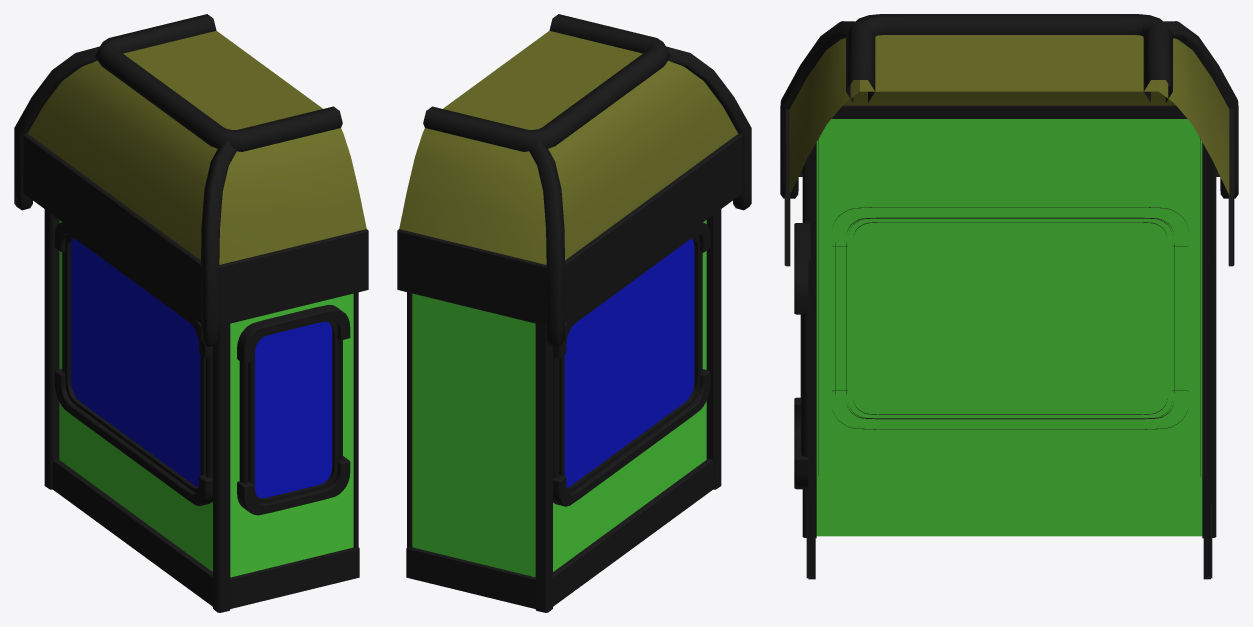
The model's file is Kiosque_Gauche_Metal_01.FBX.
3 views of the same model, side by side, from view 1: azimuth 30°, elevation 25°; view 2: azimuth 150°, elevation 25°; view 3: azimuth 270°, elevation 25° (orthographic). The views are drawn at different scales.
Parts seen in each view (by area): view 1: Kiosque_Gauche_Metal_01_LOD0; view 2: Kiosque_Gauche_Metal_01_LOD0; view 3: Kiosque_Gauche_Metal_01_LOD0.
Part boxes in pixels (left/top/right/bottom): Kiosque_Gauche_Metal_01_LOD0: left=14, top=14, right=368, bottom=612; Kiosque_Gauche_Metal_01_LOD0: left=397, top=14, right=751, bottom=612; Kiosque_Gauche_Metal_01_LOD0: left=780, top=14, right=1238, bottom=579.
Bounding box in the file's own units: 193 × 511 × 398.
